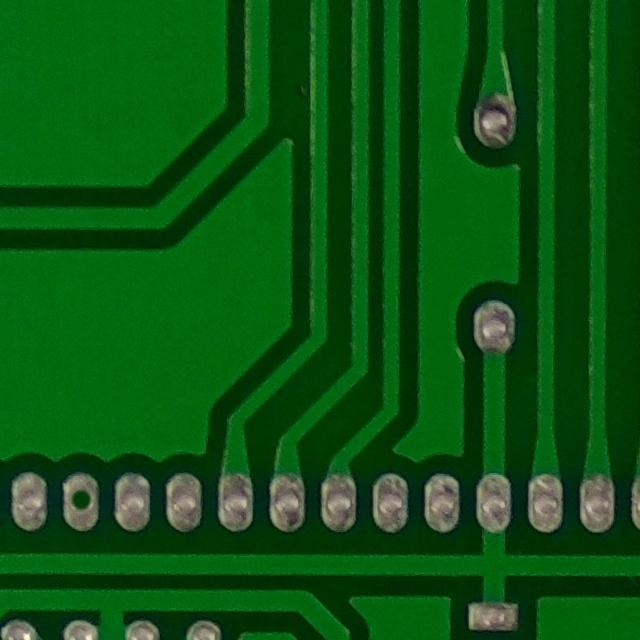missing_hole: (57, 468, 107, 532)
